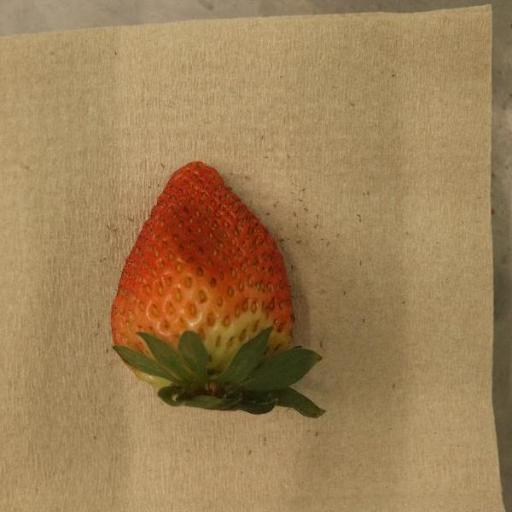Strawberry: (111, 161, 327, 420)
